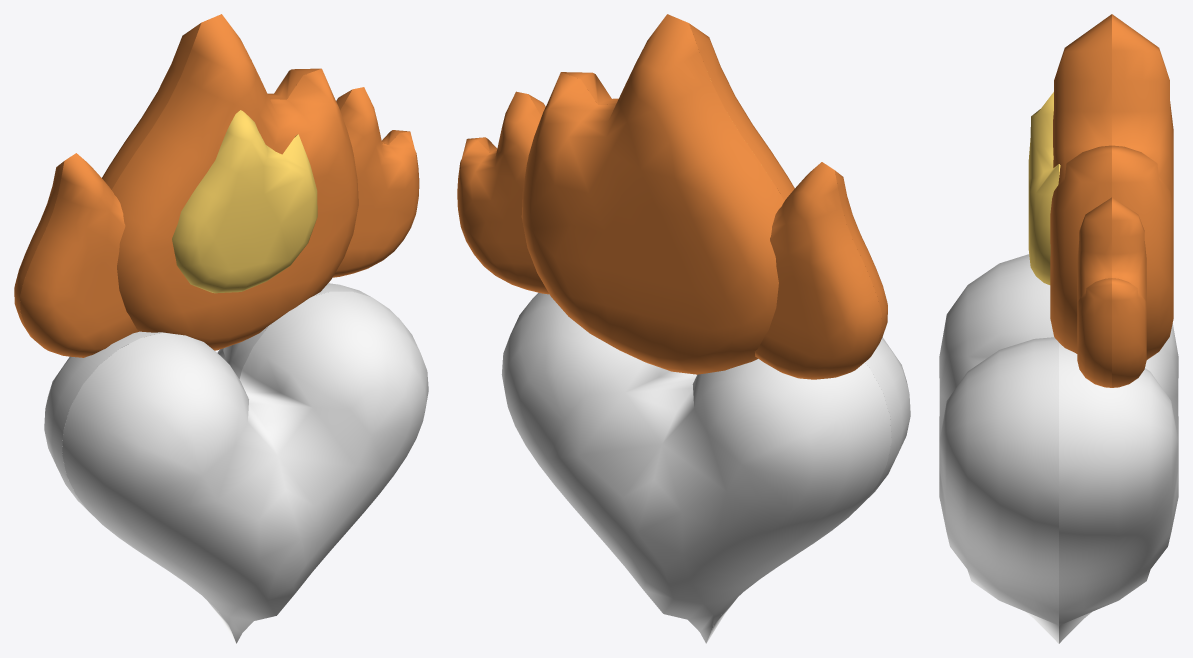
Rendered from fire_heart.glb.
3 renders of one model, left to right at view 1: azimuth 30°, elevation 25°; view 2: azimuth 150°, elevation 25°; view 3: azimuth 270°, elevation 25°, orthographic. The views are drawn at different scales.
Parts seen in each view (by area): view 1: fire_heart; view 2: fire_heart; view 3: fire_heart.
Boxes of the visible parts, box(x1,y1,x2,y2) form: fire_heart: box(14, 14, 428, 643); fire_heart: box(457, 14, 910, 643); fire_heart: box(939, 14, 1178, 643).
Bounding box in the file's own units: 0.678 × 1 × 0.3449.
